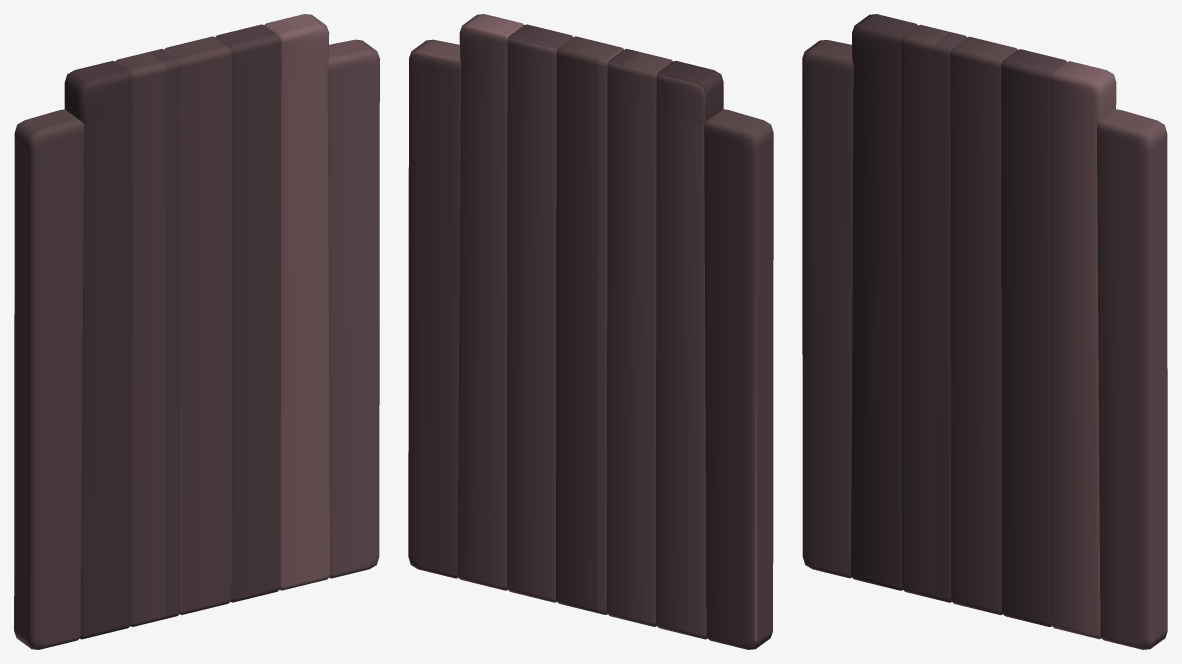
The model's file is WoodPlank.fbx.
3 views of the same model, side by side, from view 1: azimuth 30°, elevation 25°; view 2: azimuth 150°, elevation 25°; view 3: azimuth 330°, elevation 25° (orthographic).
Visible parts, largest first — view 1: ENV_WoodPlank_MO_0; view 2: ENV_WoodPlank_MO_0; view 3: ENV_WoodPlank_MO_0.
Boxes of the visible parts, left/top/right/bottom form: ENV_WoodPlank_MO_0: left=14, top=14, right=379, bottom=649; ENV_WoodPlank_MO_0: left=408, top=14, right=773, bottom=649; ENV_WoodPlank_MO_0: left=802, top=14, right=1167, bottom=649.
Bounding box in the file's own units: 25.03 × 38.06 × 2.54.
